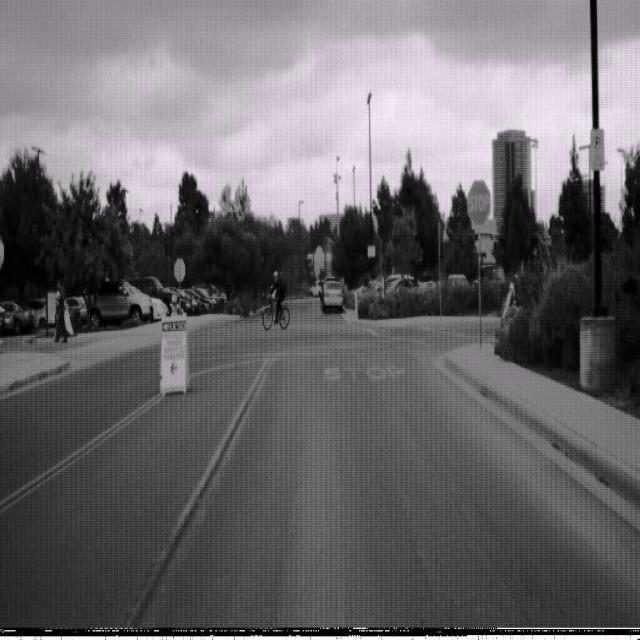stop_sign: (466, 178, 492, 227)
